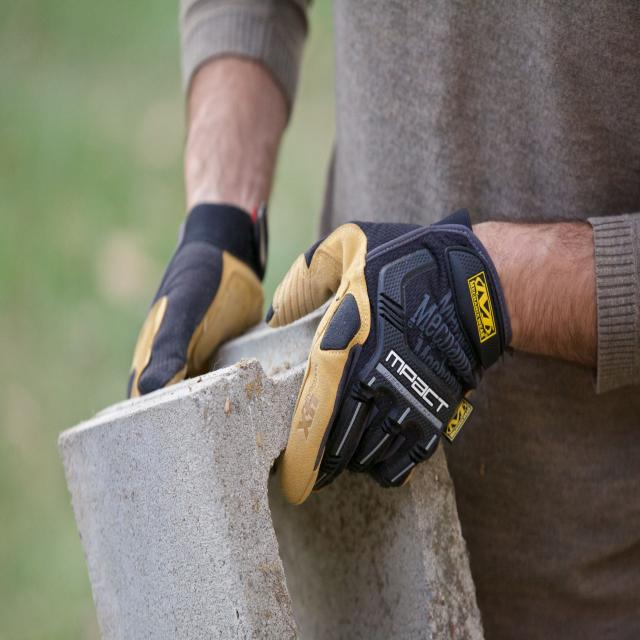gloves: (261, 197, 510, 506), (130, 197, 268, 405)
